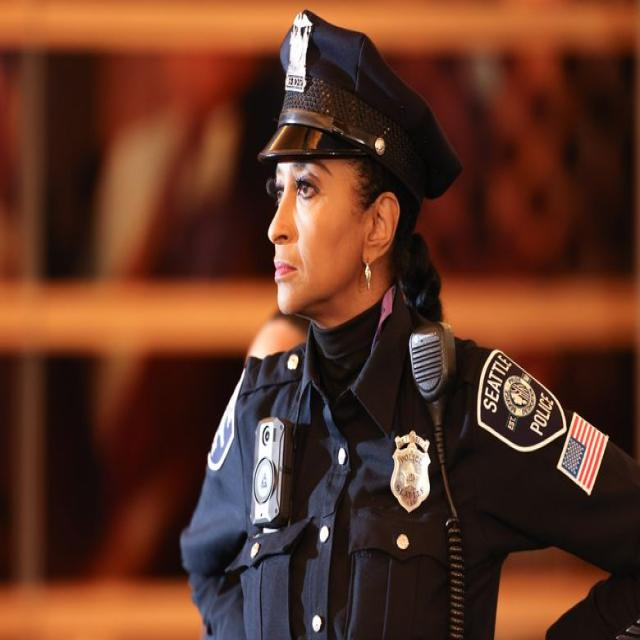police: (187, 0, 640, 640)
